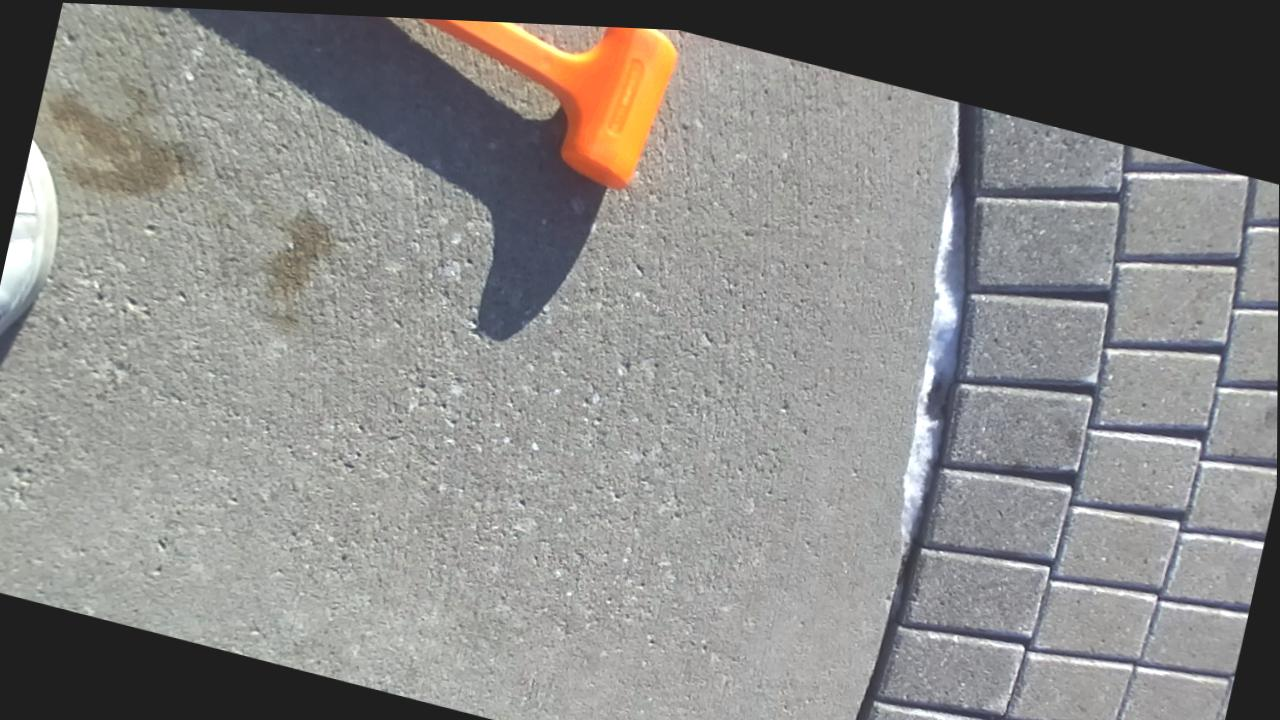mallet: (423, 19, 676, 189)
